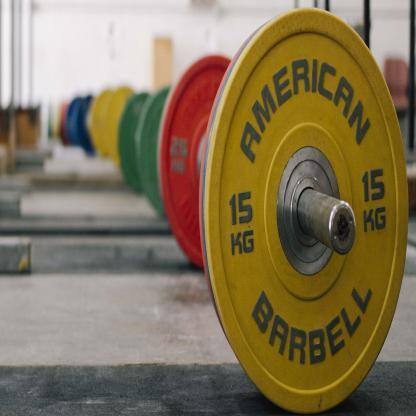Barbell: (326, 197, 359, 266)
